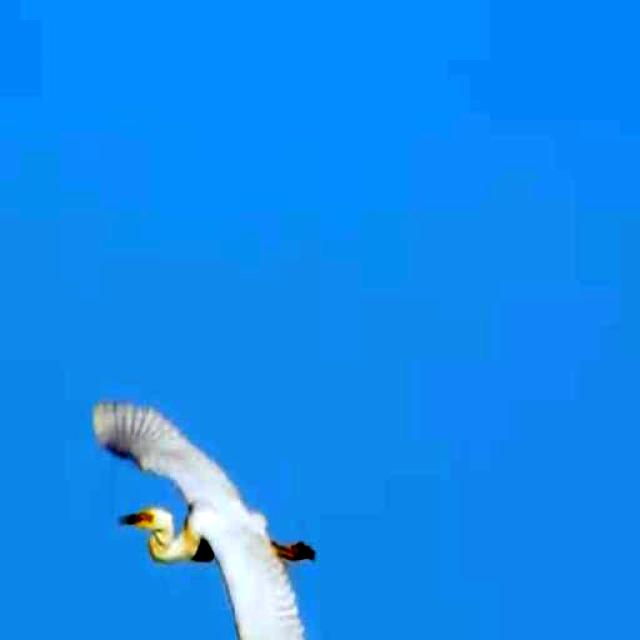airplane: (98, 401, 316, 640)
